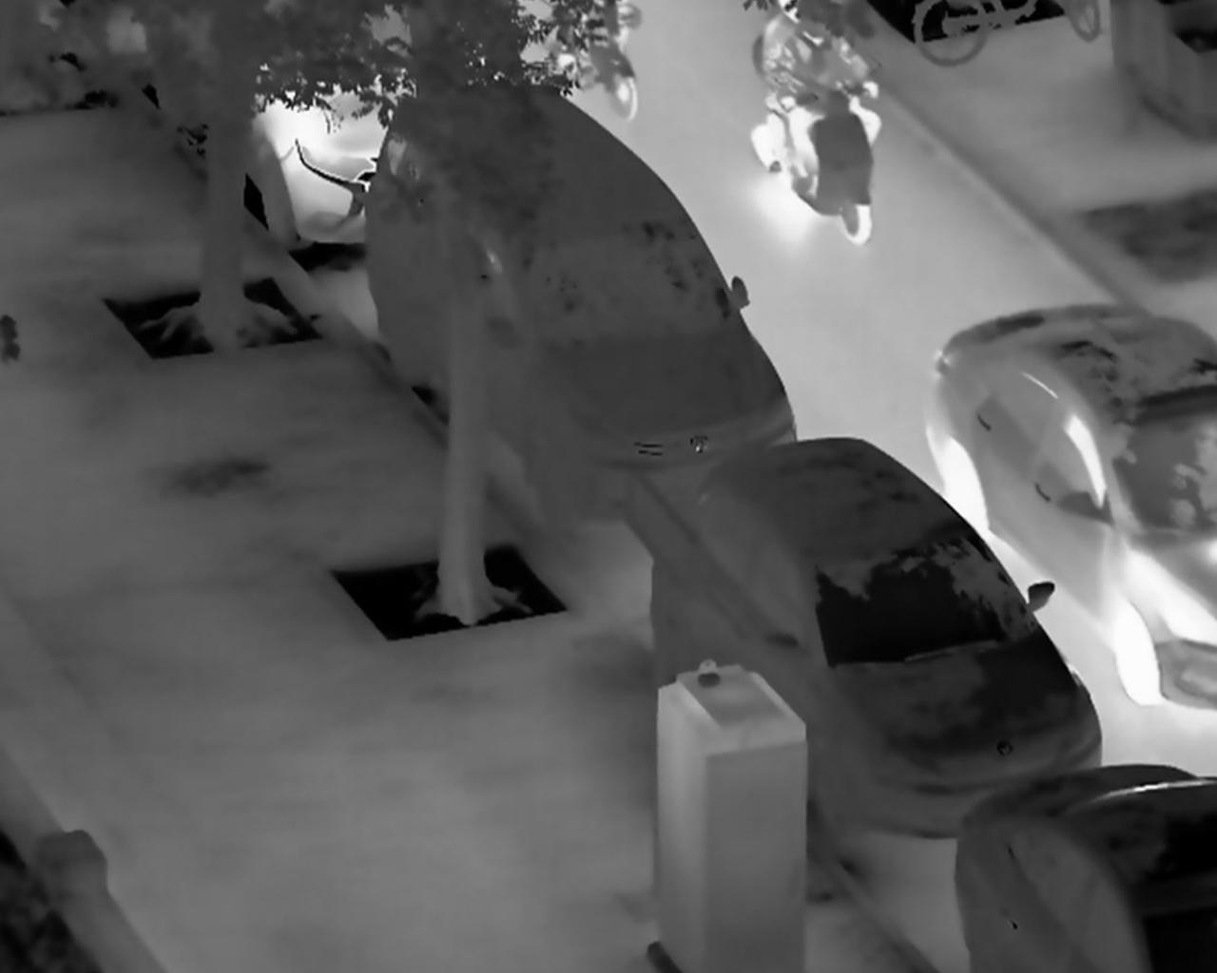person: (774, 9, 883, 184)
